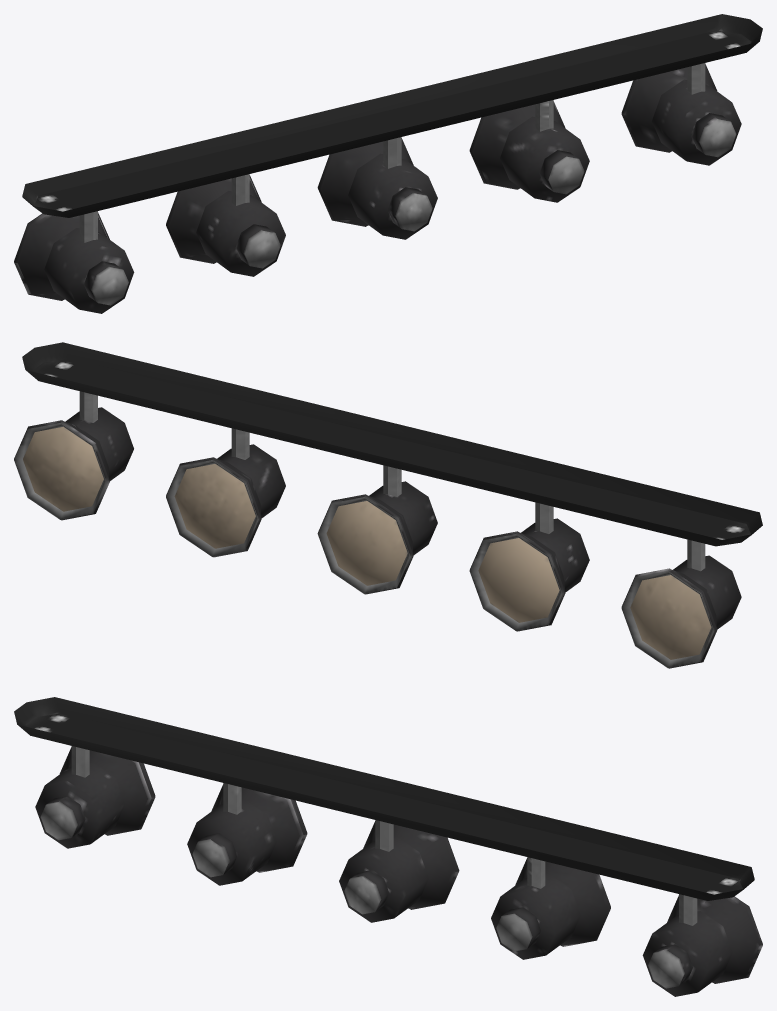
The model's file is Hot Lamp 5.fbx.
3 views of the same model, one above another, from view 1: azimuth 30°, elevation 25°; view 2: azimuth 150°, elevation 25°; view 3: azimuth 330°, elevation 25° (orthographic).
Visible parts, largest first — view 1: Hot Lamp 5, Circle.004, Circle.002, Circle.006, Circle.005, Circle.003; view 2: Hot Lamp 5, Circle.002, Circle.003, Circle.005, Circle.004, Circle.006; view 3: Hot Lamp 5, Circle.006, Circle.002, Circle.004, Circle.003, Circle.005.
Part boxes in pixels (box(x1,y1,x2,y2)): Hot Lamp 5: box(22, 14, 762, 242); Circle.004: box(14, 212, 134, 313); Circle.002: box(317, 138, 437, 239); Circle.006: box(621, 64, 741, 165); Circle.005: box(469, 101, 589, 202); Circle.003: box(166, 175, 285, 276); Hot Lamp 5: box(22, 342, 762, 571); Circle.002: box(317, 481, 437, 594); Circle.003: box(469, 518, 589, 631); Circle.005: box(166, 444, 285, 557); Circle.004: box(621, 555, 741, 668); Circle.006: box(14, 407, 133, 520); Hot Lamp 5: box(14, 697, 754, 925); Circle.006: box(642, 895, 762, 996); Circle.002: box(339, 821, 459, 922); Circle.004: box(35, 747, 155, 848); Circle.003: box(187, 784, 307, 885); Circle.005: box(491, 858, 610, 959).
Bounding box in the file's own units: 146 × 25.66 × 17.85.
